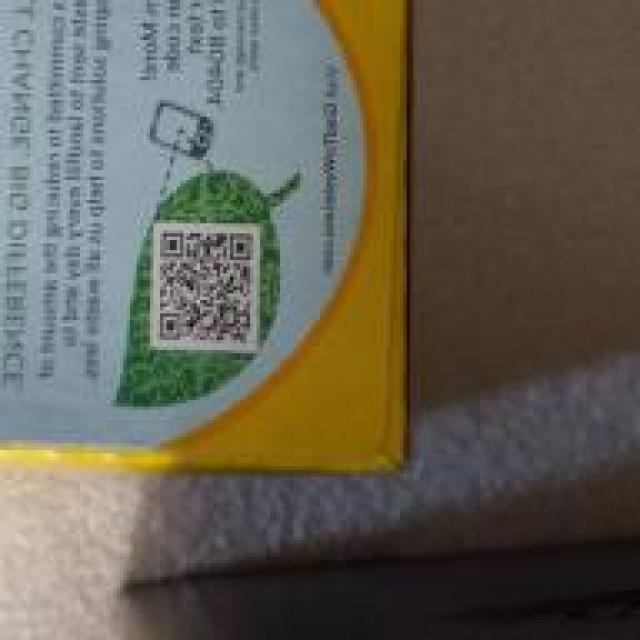qr_code: (159, 230, 253, 343)
